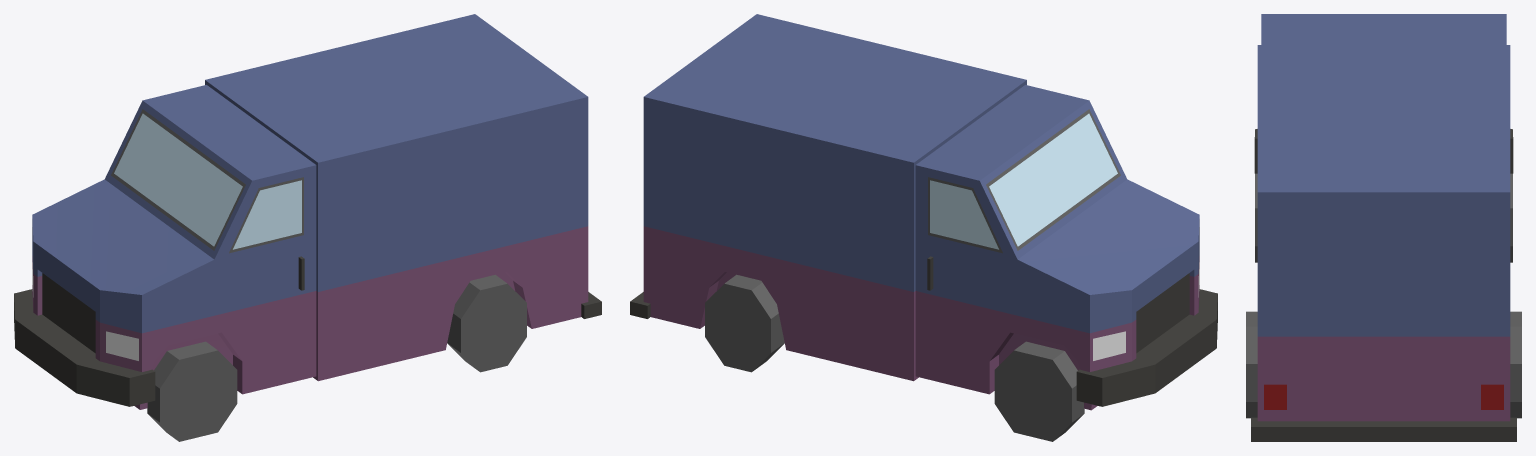
File: Truck_1.fbx
The picture shows the model from 3 angles, left to right: view 1: azimuth 30°, elevation 25°; view 2: azimuth 150°, elevation 25°; view 3: azimuth 270°, elevation 25°; orthographic projection. The views are drawn at different scales.
Visible parts, largest first — view 1: Truck_1; view 2: Truck_1; view 3: Truck_1.
Part boxes in pixels (x1,y1,x2,y2): Truck_1: [14, 14, 601, 441]; Truck_1: [630, 14, 1217, 441]; Truck_1: [1246, 14, 1521, 441].
Size of the model in its own units: 7.79 by 3.66 by 3.36.
1 material, 1 textured.
